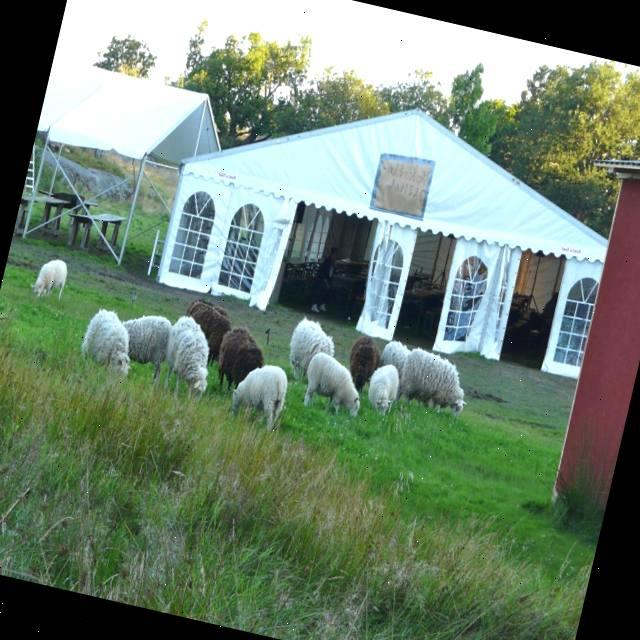sheep: (232, 363, 287, 428), (31, 258, 67, 297)
